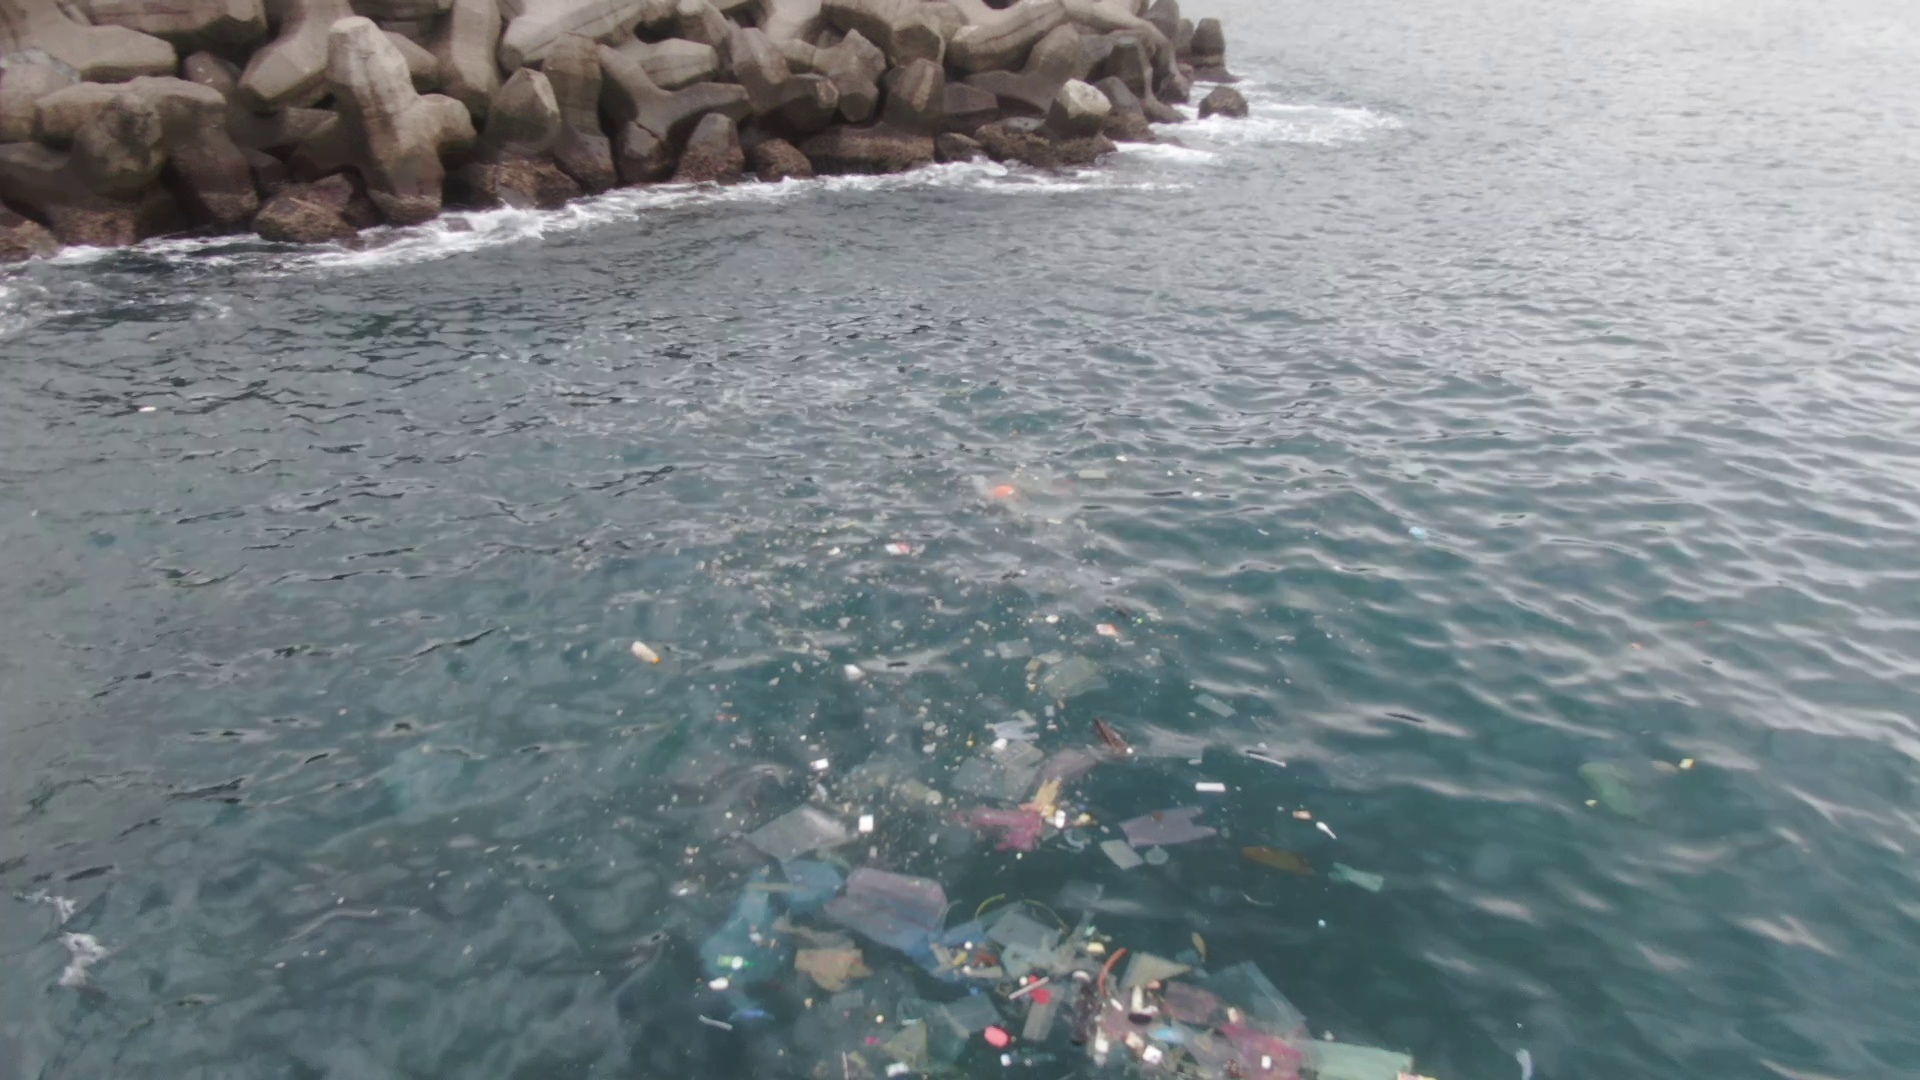garbage: (696, 717, 1441, 1080)
